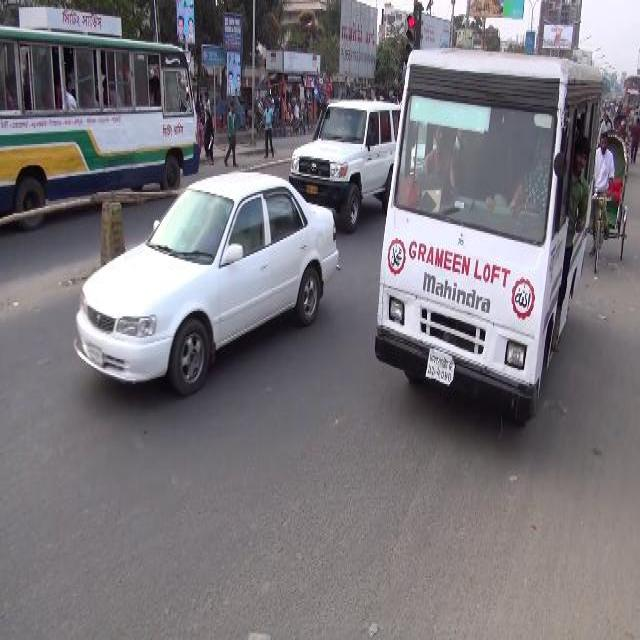vehicle: (373, 43, 608, 429), (73, 158, 344, 407), (1, 3, 200, 239), (287, 96, 409, 237), (590, 128, 636, 279)
